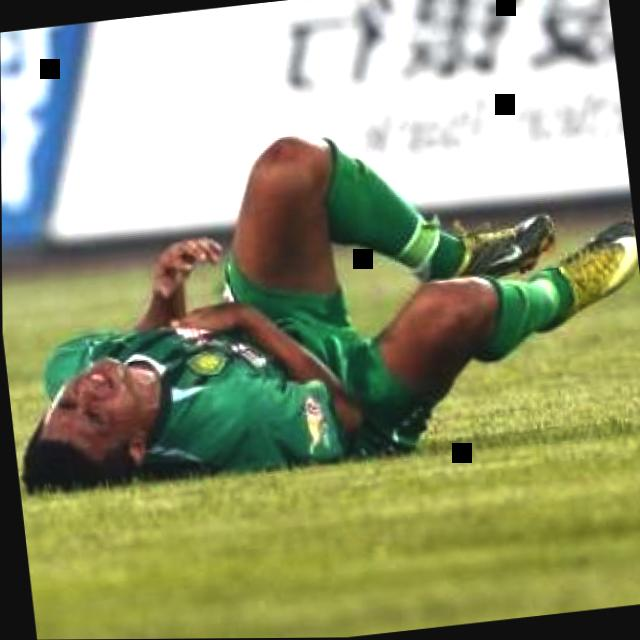Fall-Detected: (0, 77, 640, 501)
